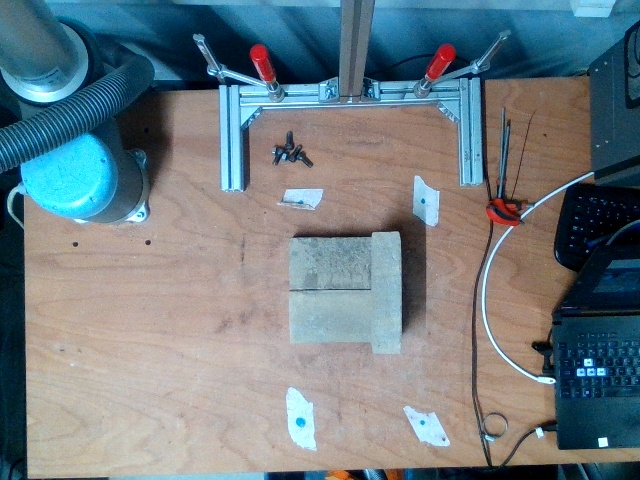brick-side: (373, 234, 401, 352)
